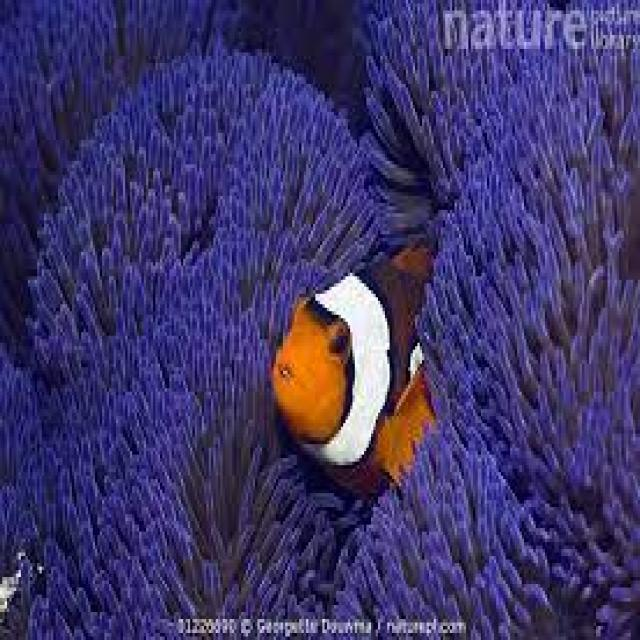ClownFish: (267, 246, 447, 490)
